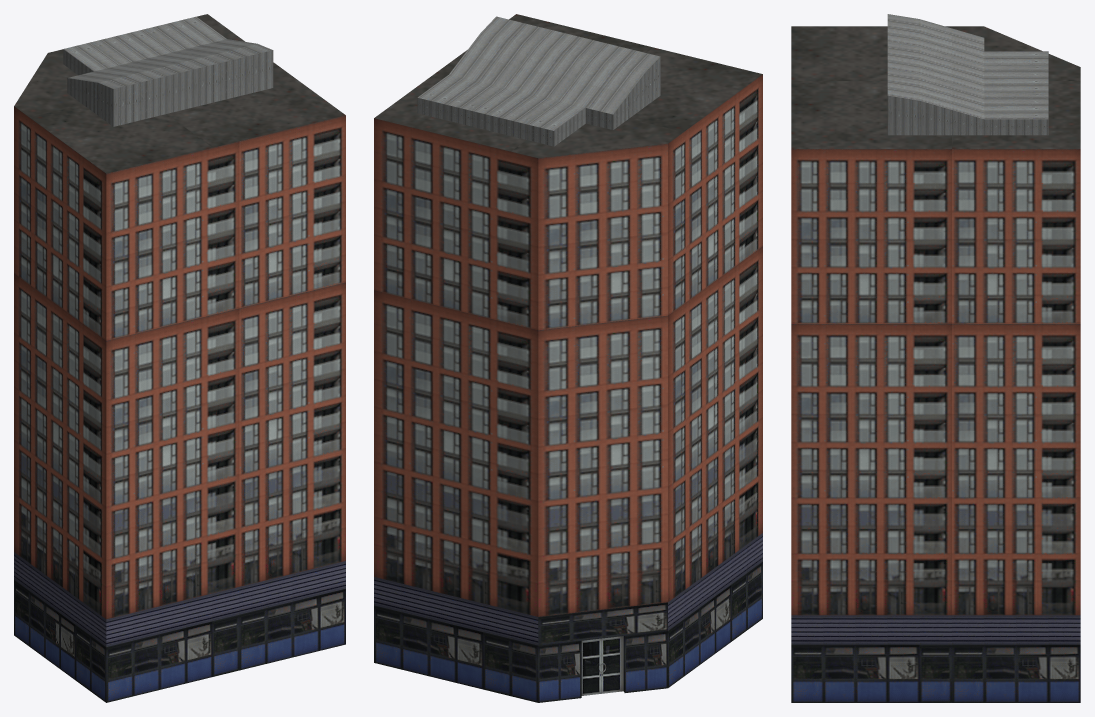
The model's file is building3_1.fbx.
3 renders of one model, left to right at view 1: azimuth 30°, elevation 25°; view 2: azimuth 150°, elevation 25°; view 3: azimuth 270°, elevation 25°, orthographic. The views are drawn at different scales.
Visible parts, largest first — view 1: building3_1; view 2: building3_1; view 3: building3_1.
Part boxes in pixels (box(x1,y1,x2,y2)): building3_1: box(14, 14, 345, 702); building3_1: box(374, 14, 762, 702); building3_1: box(791, 14, 1080, 702).
Size of the model in its own units: 1000 by 1000 by 2262.
Materials: 1 (1 with a texture image).
